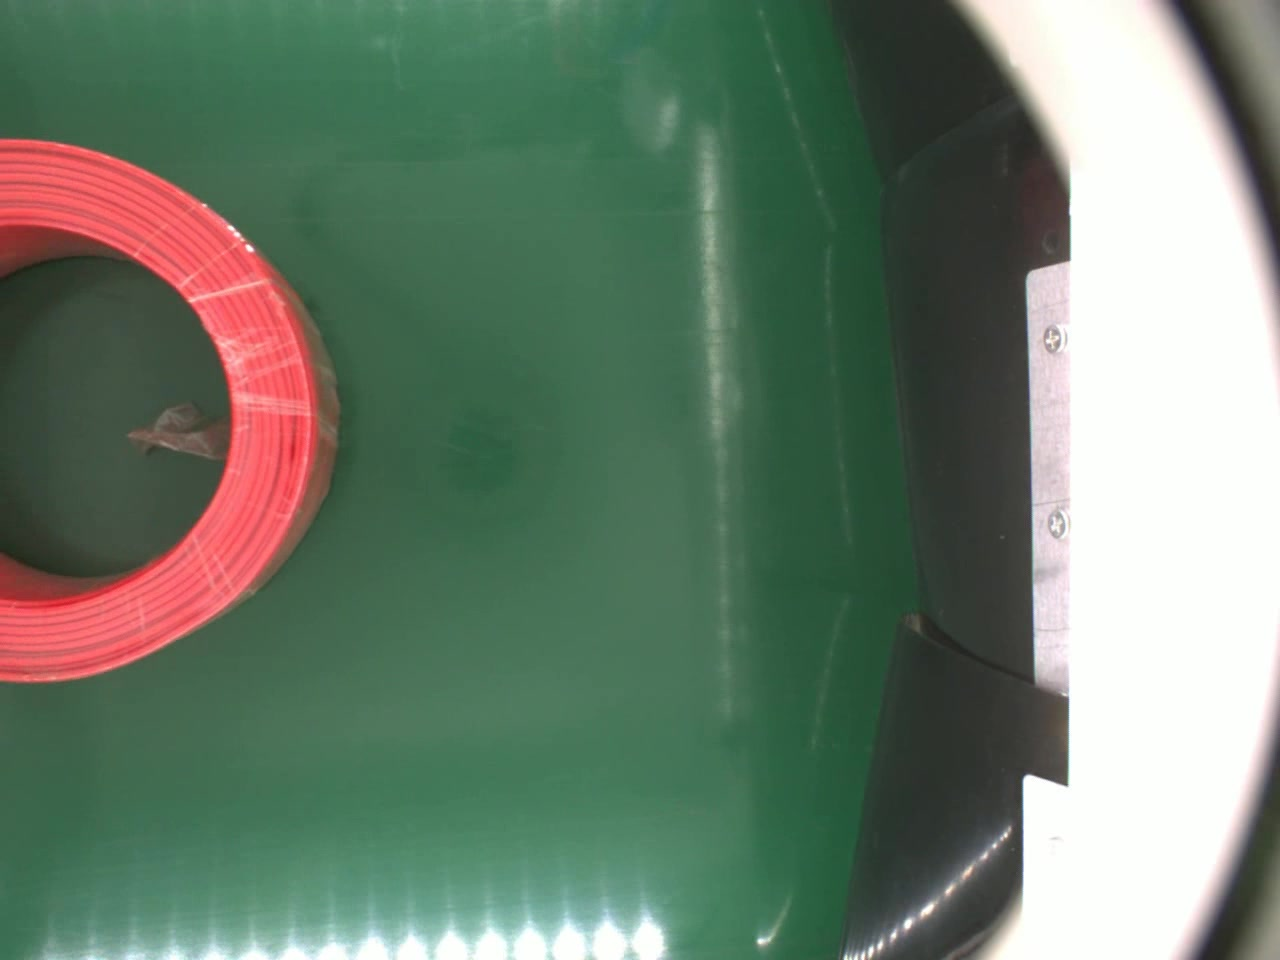red: (0, 141, 354, 669)
